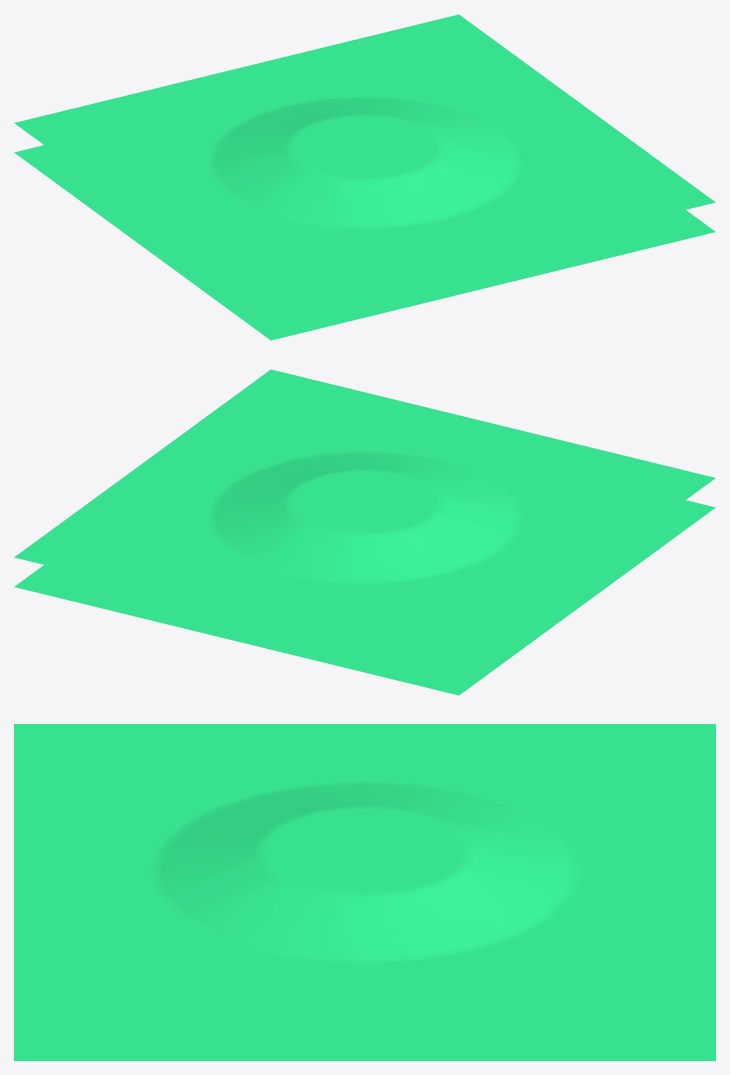
File: bump.fbx
The picture shows the model from 3 angles, top to bottom: view 1: azimuth 30°, elevation 25°; view 2: azimuth 150°, elevation 25°; view 3: azimuth 270°, elevation 25°; orthographic projection. The views are drawn at different scales.
Parts seen in each view (by area): view 1: bump; view 2: bump; view 3: bump.
Boxes of the visible parts, box(x1,y1,x2,y2) form: bump: box(14, 14, 715, 340); bump: box(14, 369, 715, 695); bump: box(14, 724, 715, 1060).
Bounding box in the file's own units: 99.99 × 99.99 × 9.67.
